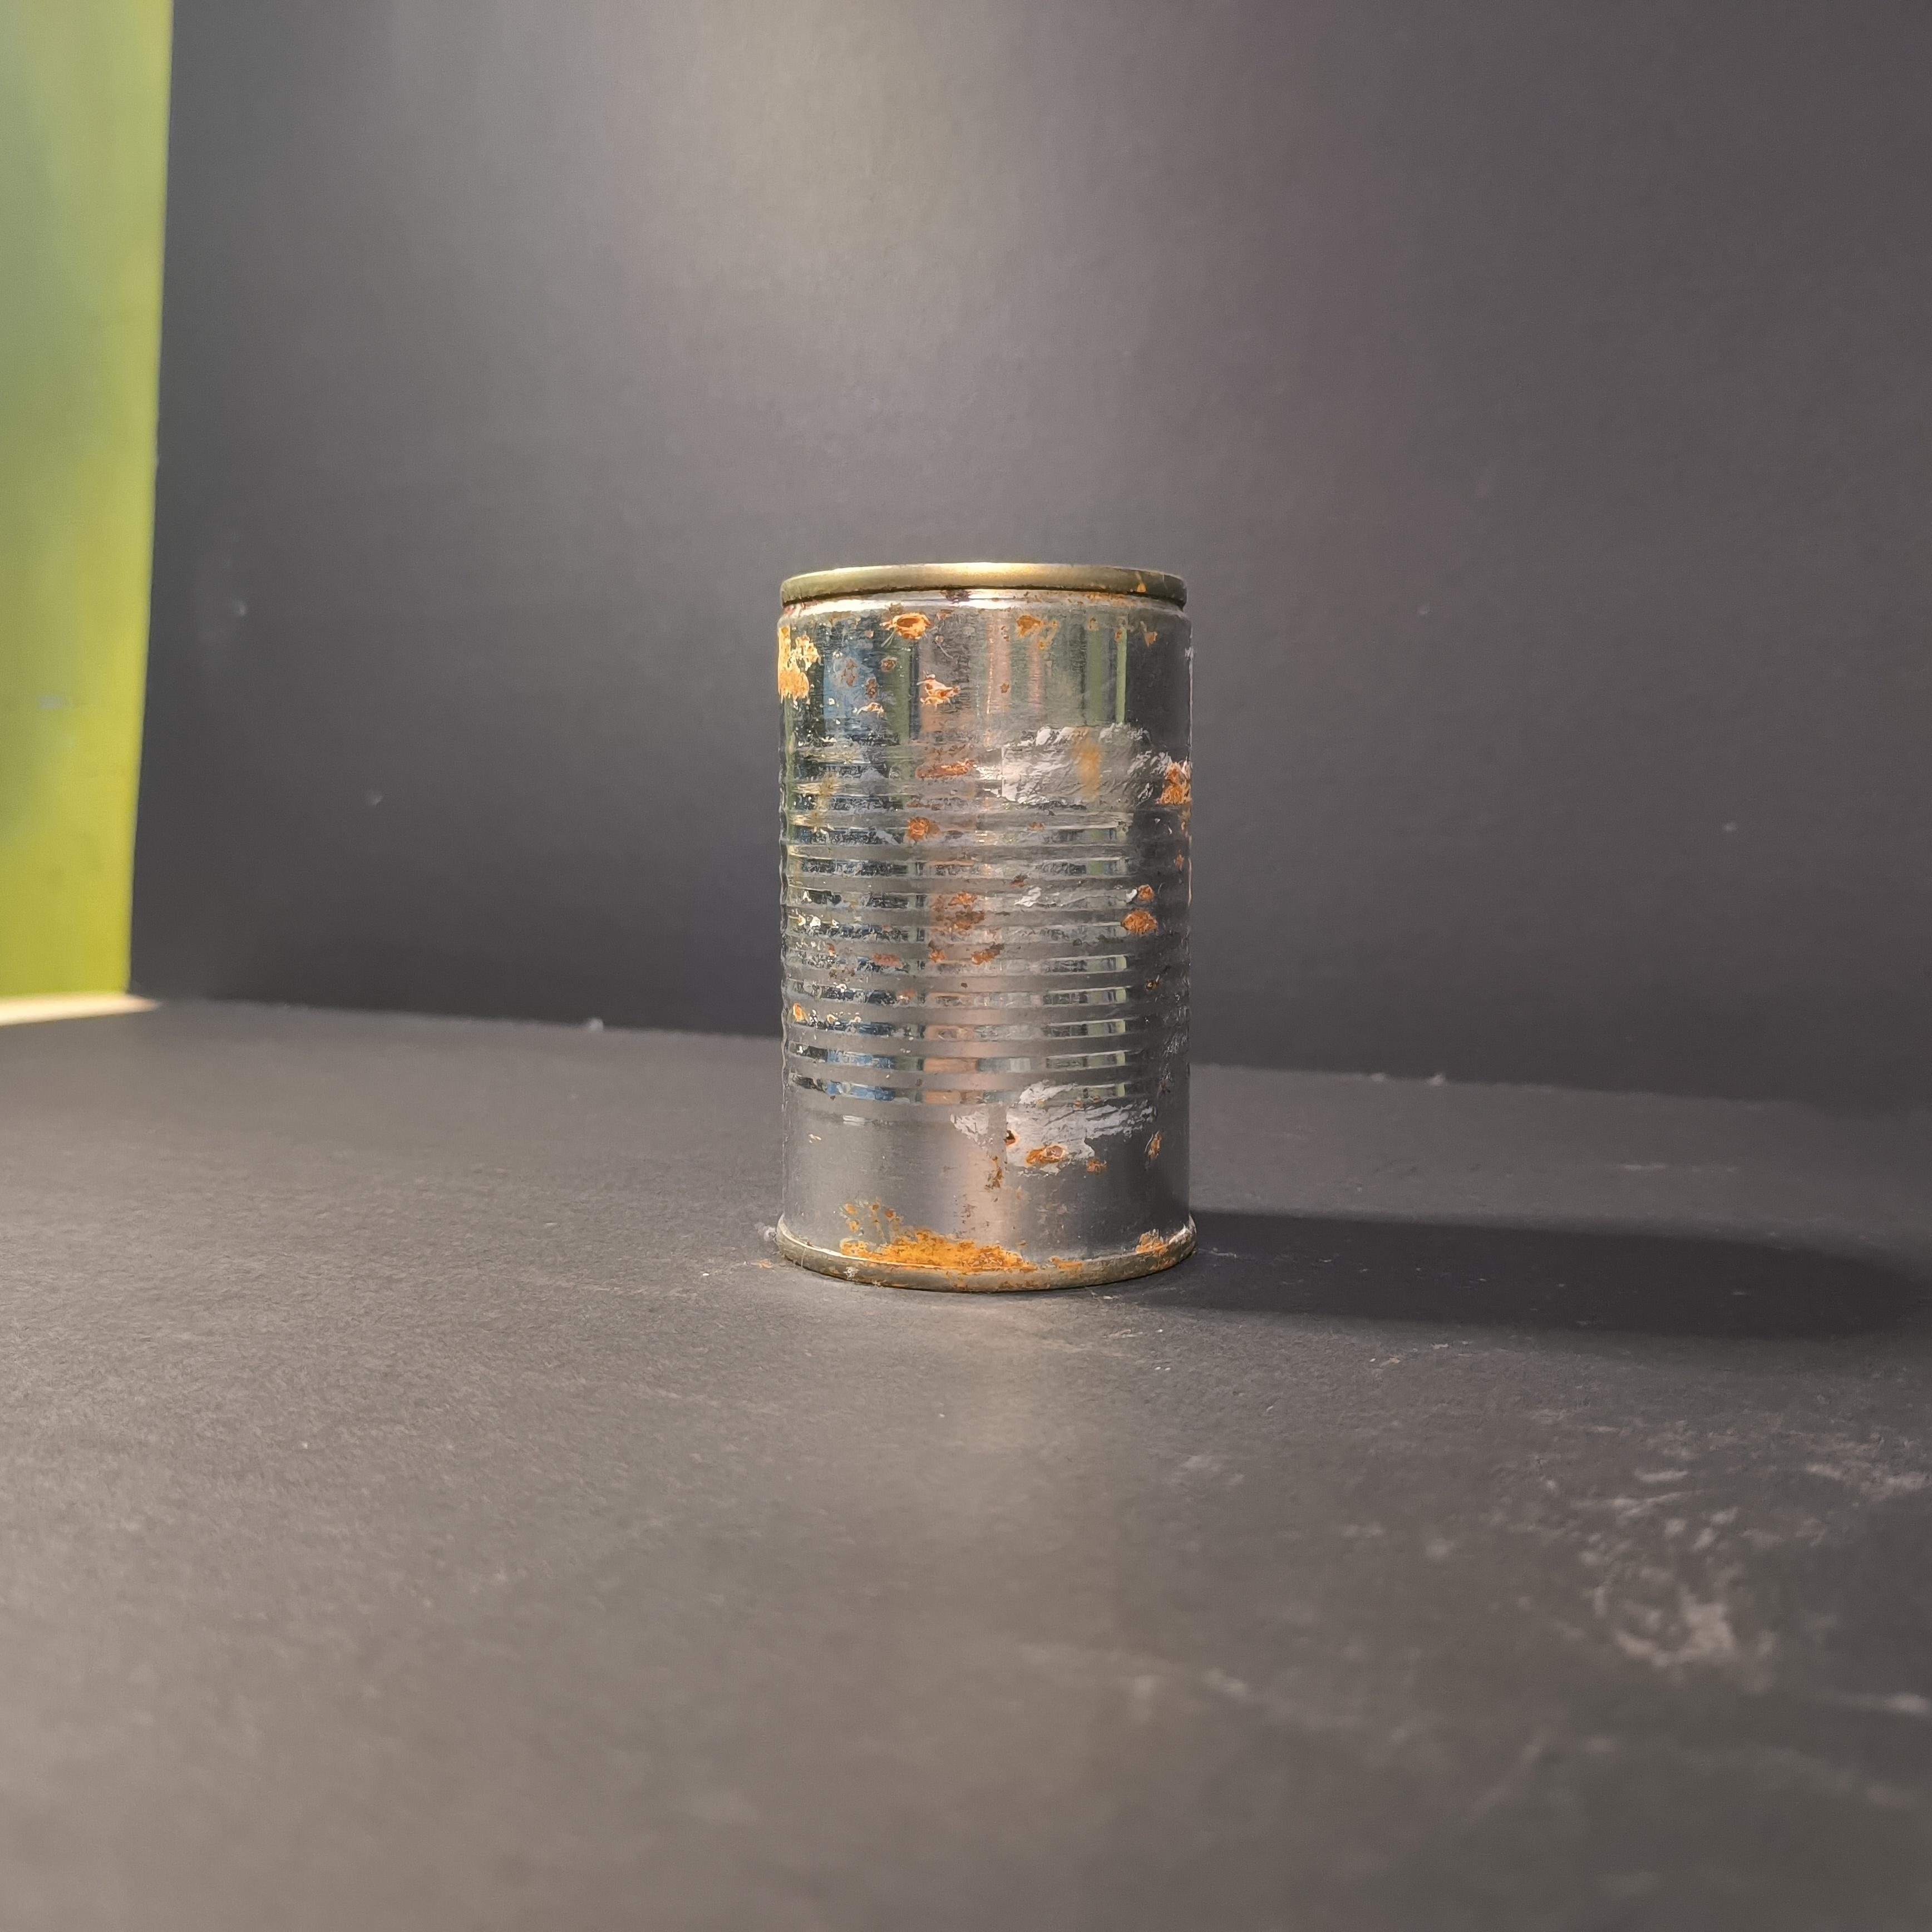Rusted: (763, 548, 1210, 1293)
